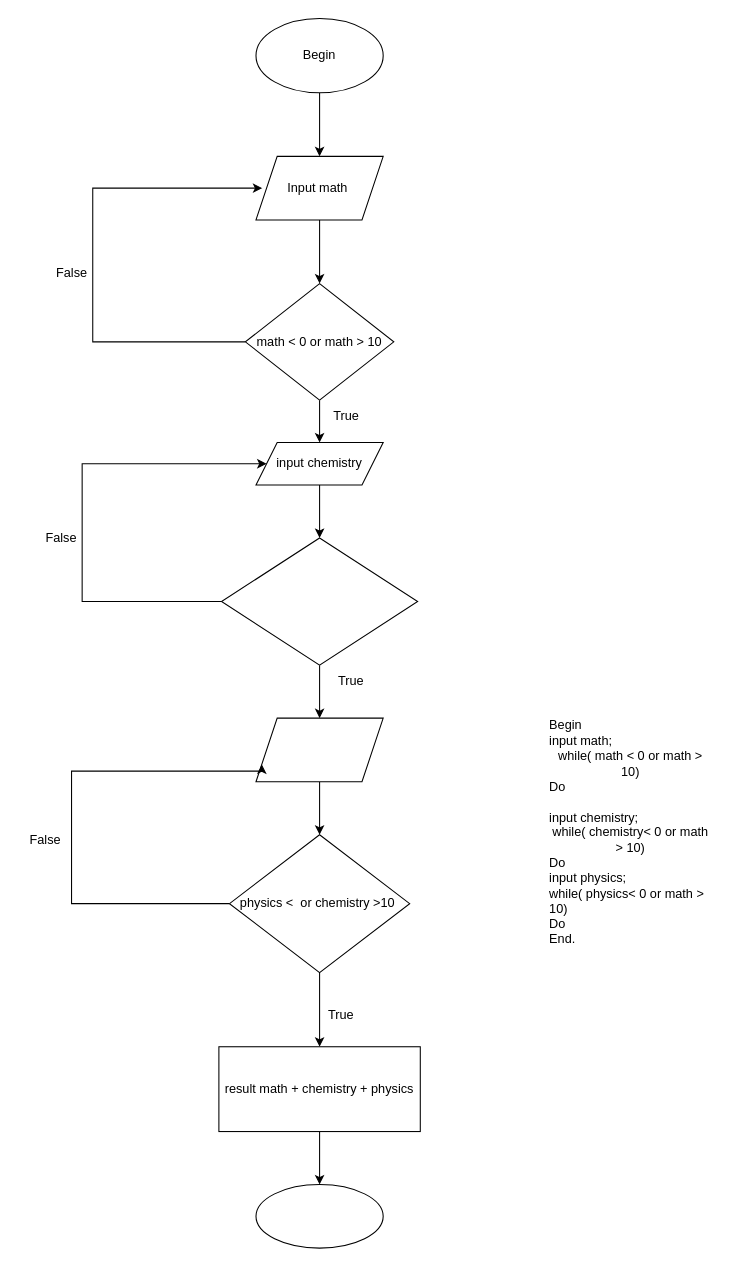
Image size: 730x1267. Some labels were removed from this diagram. The centre of each missing label's shape, as x and y in pixels:
chemistry < 0 or chemistry > 10: (x=319, y=601)
End: (x=319, y=1215)
input physics: (x=319, y=749)
